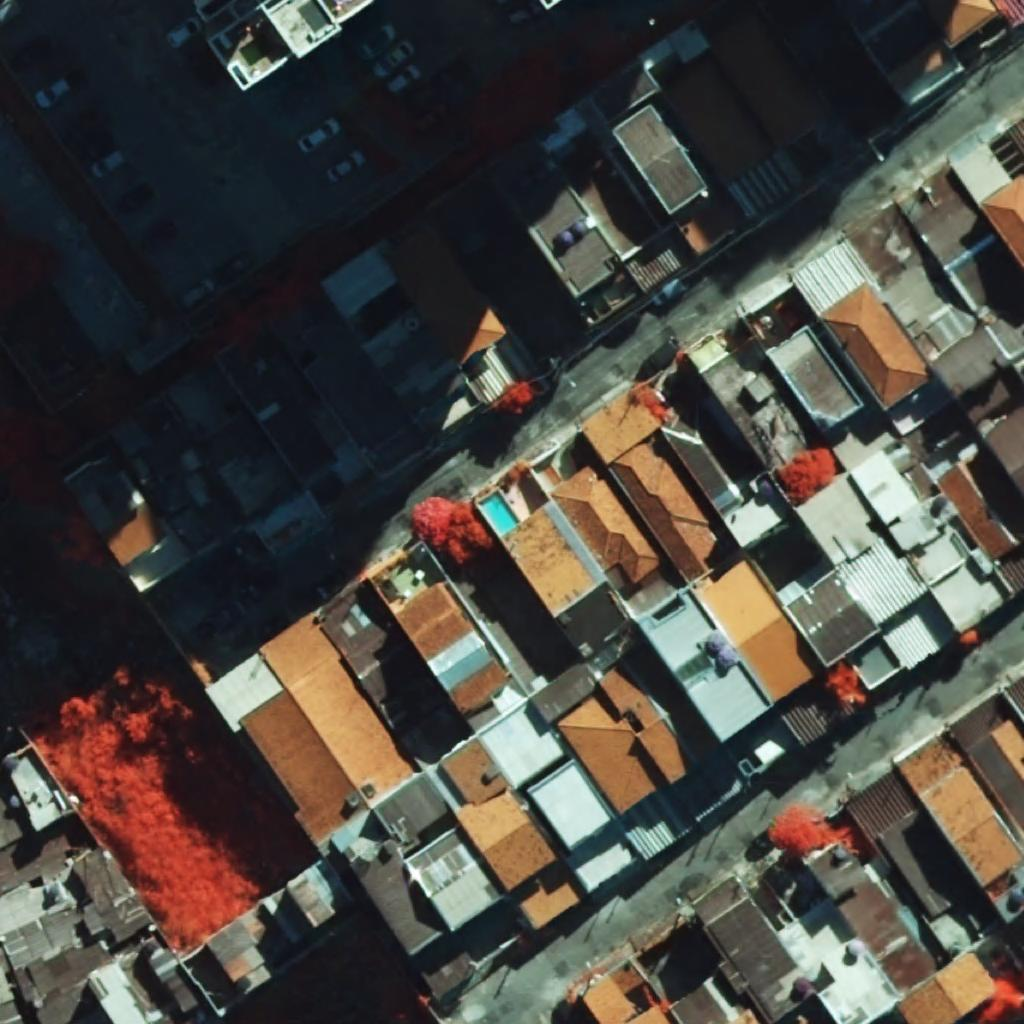pool: (479, 491, 519, 534)
